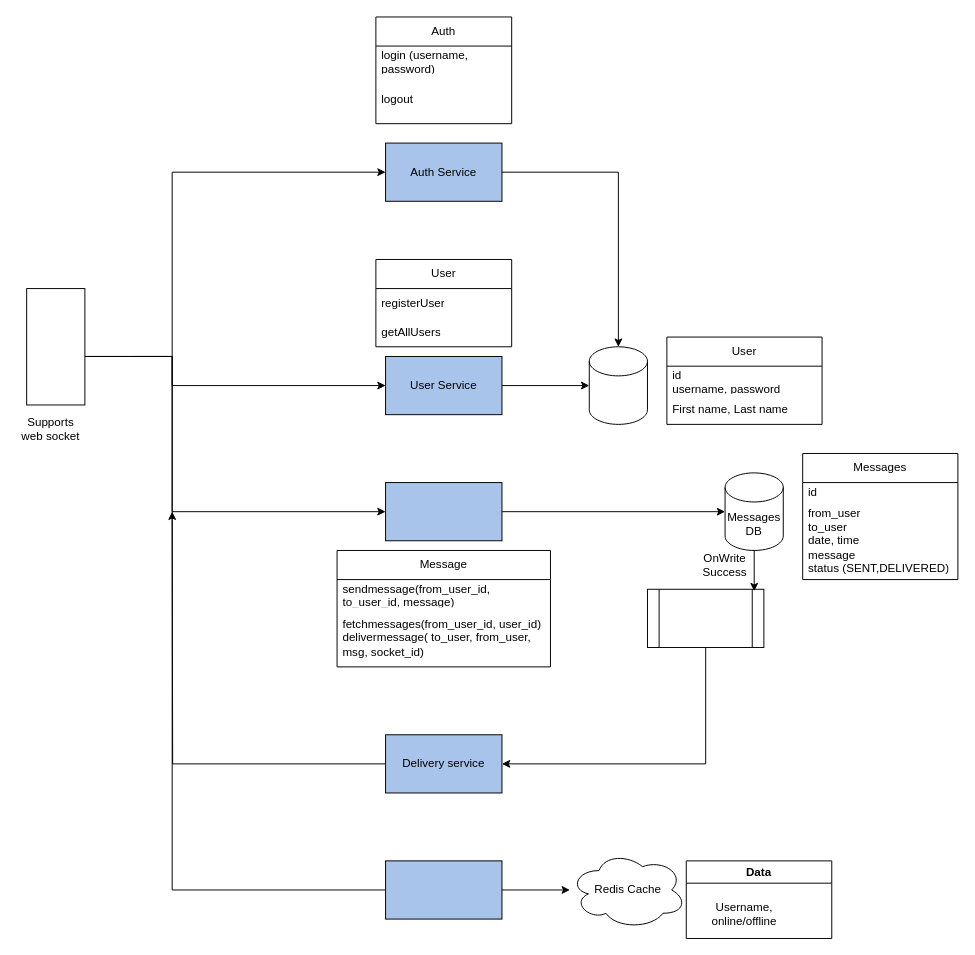
This 975x955 diagram has some shape labels left out. The shapes that lost their labels are listed below. From the top down, each one's centre as x and y in pixels, then its label:
At [55,346]: "API Gateway".
At [617,385]: "User DB".
At [443,511]: "Message Service".
At [705,617]: "Kafka".
At [443,889]: "Presence service".
